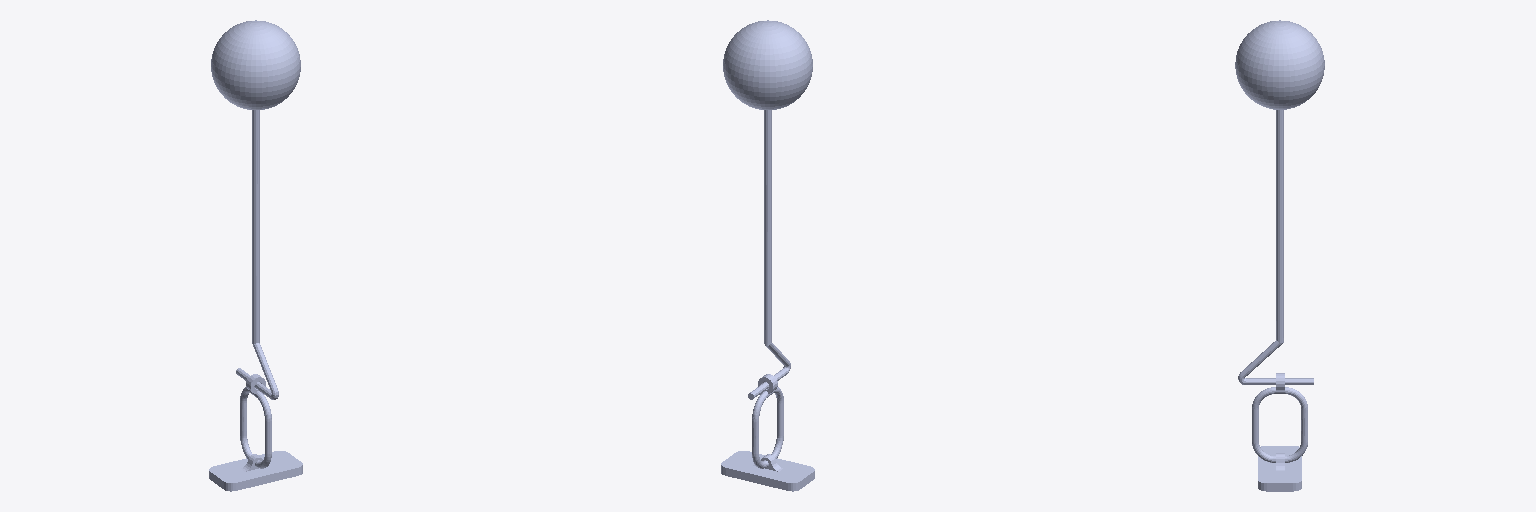
The robot description file, URDF, robot "ax2":
<?xml version="1.0" encoding="utf-8"?>
<!-- This URDF was automatically created by SolidWorks to URDF Exporter! Originally created by Stephen Brawner (brawner@gmail.com) 
     Commit Version: 1.6.0-4-g7f85cfe  Build Version: 1.6.7995.38578
     For more information, please see http://wiki.ros.org/sw_urdf_exporter -->
<robot
  name="ax2">
  <link
    name="base_link">
    <inertial>
      <origin
        xyz="5.7171E-18 4.8949E-18 0.0053279"
        rpy="0 0 0" />
      <mass
        value="0.050778" />
      <inertia
        ixx="1.0583E-05"
        ixy="0"
        ixz="0"
        iyy="4.0367E-05"
        iyz="0"
        izz="4.9749E-05" />
    </inertial>
    <visual>
      <origin
        xyz="0 0 0"
        rpy="0 0 0" />
      <geometry>
        <mesh
          filename="package://ax2/meshes/base_link.STL" />
      </geometry>
      <material
        name="">
        <color
          rgba="0.79216 0.81961 0.93333 1" />
      </material>
    </visual>
    <collision>
      <origin
        xyz="0 0 0"
        rpy="0 0 0" />
      <geometry>
        <mesh
          filename="package://ax2/meshes/base_link.STL" />
      </geometry>
    </collision>
  </link>
  <link
    name="p_link">
    <inertial>
      <origin
        xyz="2.1392E-16 -0.044975 4.6543E-16"
        rpy="0 0 0" />
      <mass
        value="0.01431" />
      <inertia
        ixx="1.6681E-05"
        ixy="0"
        ixz="0"
        iyy="6.2489E-06"
        iyz="0"
        izz="2.2687E-05" />
    </inertial>
    <visual>
      <origin
        xyz="0 0 0"
        rpy="0 0 0" />
      <geometry>
        <mesh
          filename="package://ax2/meshes/p_link.STL" />
      </geometry>
      <material
        name="">
        <color
          rgba="0.79216 0.81961 0.93333 1" />
      </material>
    </visual>
    <collision>
      <origin
        xyz="0 0 0"
        rpy="0 0 0" />
      <geometry>
        <mesh
          filename="package://ax2/meshes/p_link.STL" />
      </geometry>
    </collision>
  </link>
  <joint
    name="j_1"
    type="revolute">
    <origin
      xyz="0 0 0.11167"
      rpy="1.5708 0 -1.5708" />
    <parent
      link="base_link" />
    <child
      link="p_link" />
    <axis
      xyz="-1 0 0" />
    <limit
      lower="0"
      upper="0"
      effort="0"
      velocity="0" />
  </joint>
  <link
    name="p2_link">
    <inertial>
      <origin
        xyz="0.00015748 0.37834 -2.0724E-09"
        rpy="0 0 0" />
      <mass
        value="0.54553" />
      <inertia
        ixx="0.00081242"
        ixy="0"
        ixz="0"
        iyy="0.00052799"
        iyz="0"
        izz="0.00081664" />
    </inertial>
    <visual>
      <origin
        xyz="0 0 0"
        rpy="0 0 0" />
      <geometry>
        <mesh
          filename="package://ax2/meshes/p2_link.STL" />
      </geometry>
      <material
        name="">
        <color
          rgba="0.79216 0.81961 0.93333 1" />
      </material>
    </visual>
    <collision>
      <origin
        xyz="0 0 0"
        rpy="0 0 0" />
      <geometry>
        <mesh
          filename="package://ax2/meshes/p2_link.STL" />
      </geometry>
    </collision>
  </link>
  <joint
    name="j_2"
    type="revolute">
    <origin
      xyz="0 0.0013581 0"
      rpy="0 0 0" />
    <parent
      link="p_link" />
    <child
      link="p2_link" />
    <axis
      xyz="-1 0 0" />
    <limit
      lower="0"
      upper="0"
      effort="0"
      velocity="0" />
  </joint>
</robot>

--- Render facts (derived) ---
Views: 3 orthographic renders of the robot side by side, from view 1: azimuth 30°, elevation 25°; view 2: azimuth 150°, elevation 25°; view 3: azimuth 270°, elevation 25°.
Model ax2 with 3 links and 2 joints (2 revolute), rooted at base_link, posed all joints at 0.
Links seen in each view (by area): view 1: p2_link, base_link, p_link; view 2: p2_link, base_link, p_link; view 3: p2_link, base_link, p_link.
Link boxes in pixels (x1=…): p2_link: x1=211, y1=20, x2=300, y2=399; base_link: x1=209, y1=451, x2=302, y2=491; p_link: x1=240, y1=374, x2=271, y2=468; p2_link: x1=723, y1=20, x2=812, y2=399; base_link: x1=721, y1=451, x2=814, y2=491; p_link: x1=752, y1=374, x2=783, y2=468; p2_link: x1=1235, y1=20, x2=1324, y2=384; base_link: x1=1258, y1=446, x2=1301, y2=491; p_link: x1=1252, y1=373, x2=1307, y2=462.
Bounding box of the posed robot: 0.1 × 0.0998 × 0.5517 m (x, y, z).
Meshes: 3 distinct files referenced, 3 mesh visuals loaded (3 binary STL).
